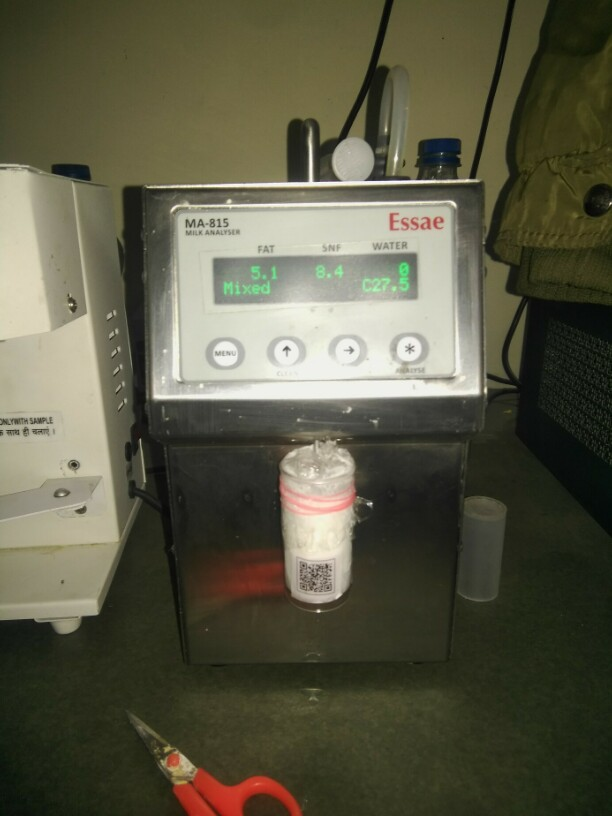lcd: (207, 248, 426, 310)
qr: (290, 551, 354, 608)
